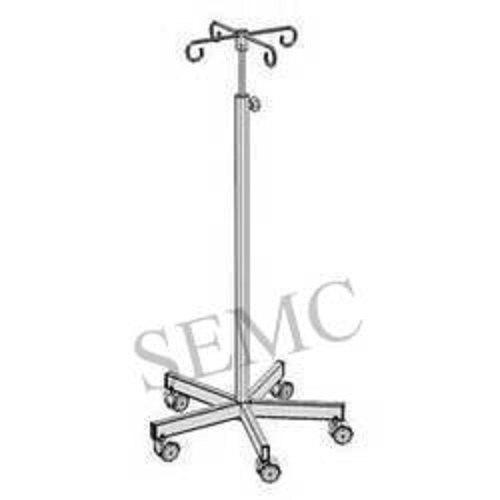Saline Stand: (145, 16, 355, 483)
